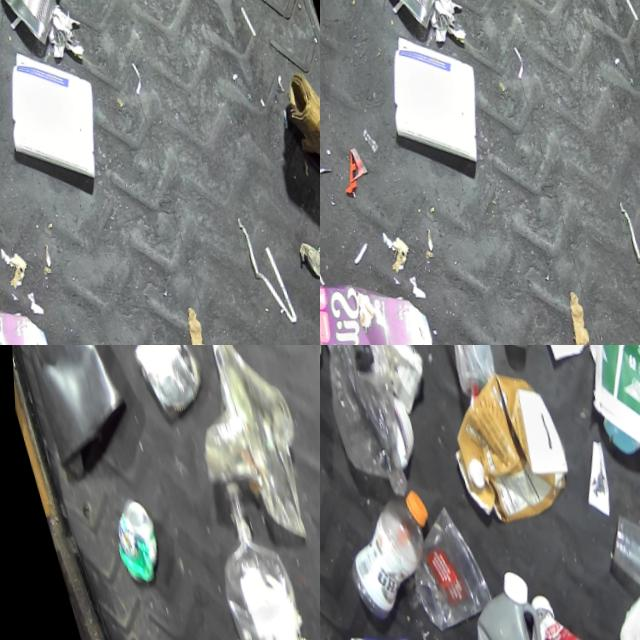can: (120, 345, 210, 428), (99, 492, 164, 592), (0, 0, 79, 55), (379, 0, 461, 39)
non_white_jug: (430, 362, 576, 543), (320, 259, 442, 345), (438, 566, 547, 640)
plastic_bottle: (326, 487, 448, 631)
